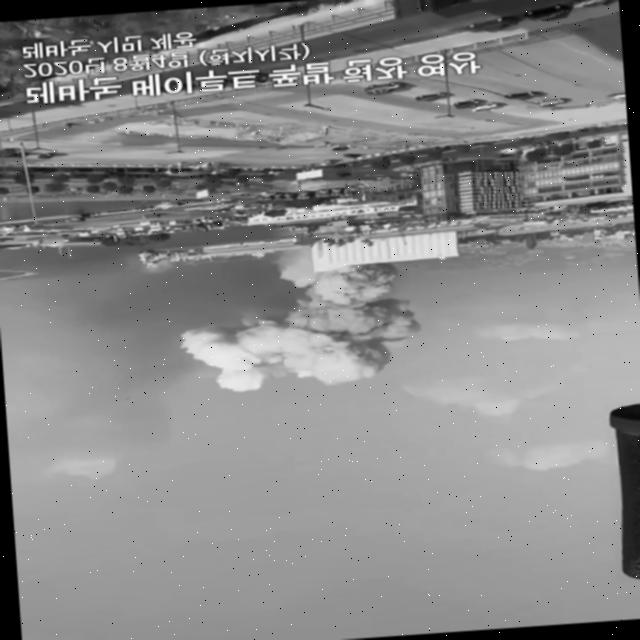explosion: (149, 210, 464, 404)
